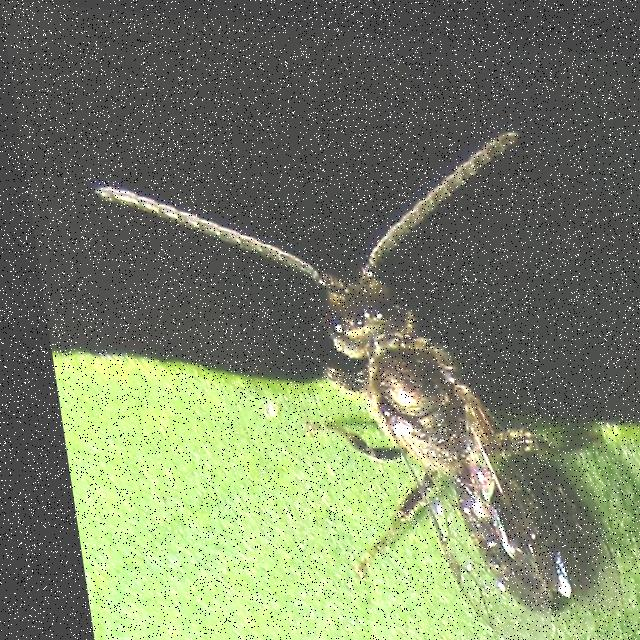Lasioglossum: (84, 77, 640, 640)
